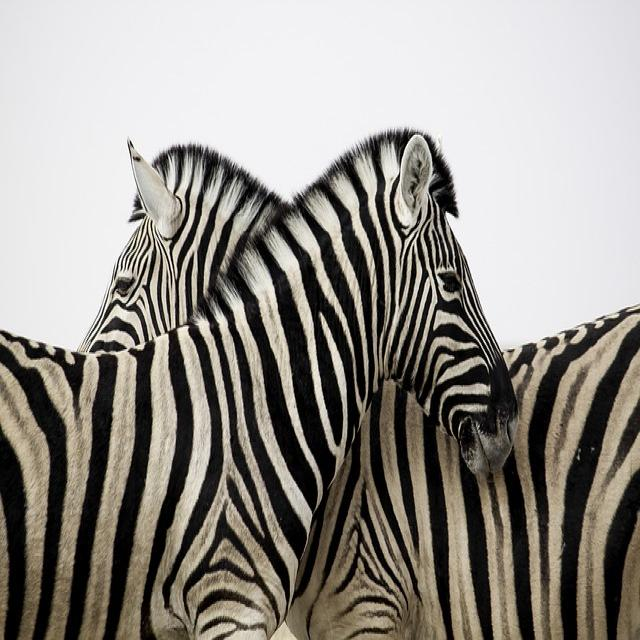Herbivorous: (0, 127, 520, 640), (78, 141, 285, 355)
